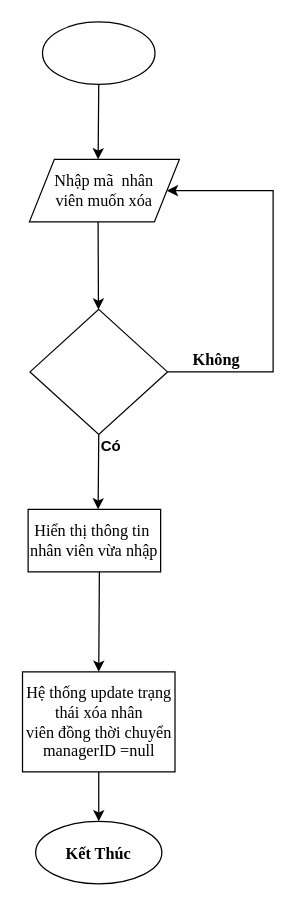
This 305x906 diagram has some shape labels left out. The shapes that lost their labels are listed below. From the top down, each one's box as (x1, y1, x2, y2) in pixels, then its label:
(41, 21, 155, 84): Bắt đầu
(29, 308, 168, 434): Kiểm tra mã nhân viên tồn tại ?
